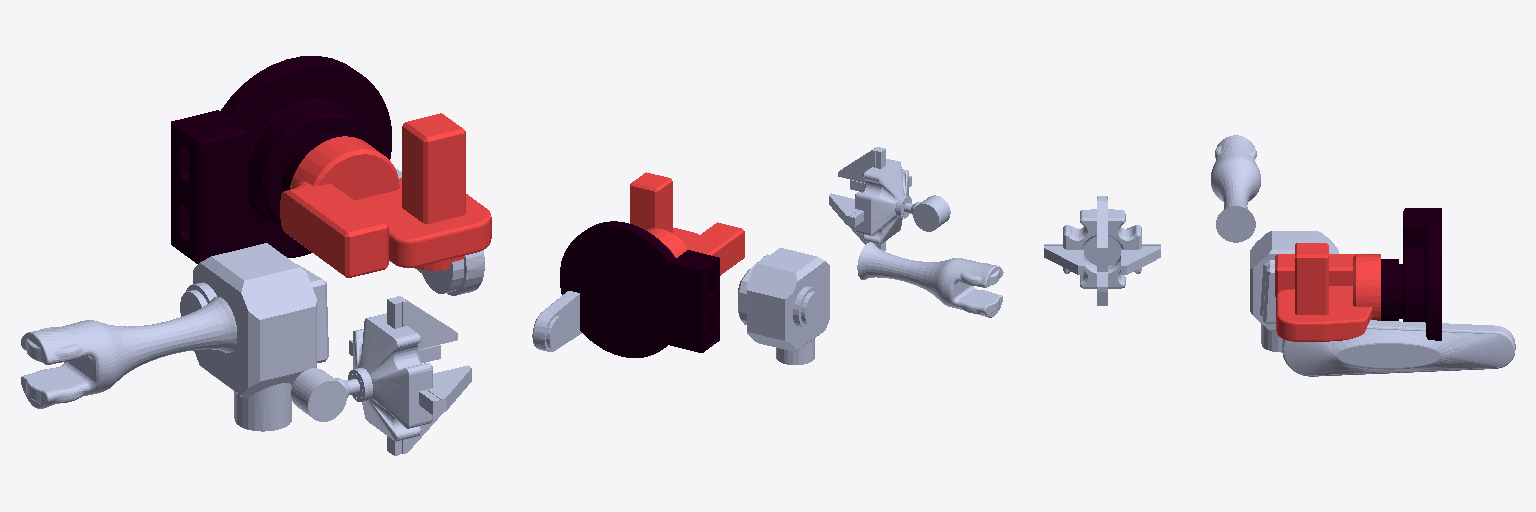
URDF robot description (my_robot_urdf):
<?xml version="1.0" encoding="utf-8" ?>
<!-- This URDF was automatically created by SolidWorks to URDF Exporter! Originally created by [author] ([email redacted]) 
     Commit Version: 1.6.0-4-g7f85cfe  Build Version: 1.6.7995.38578
     For more information, please see http://wiki.ros.org/sw_urdf_exporter -->
<robot name="my_robot_urdf">
    <link name="base_link">
        <inertial>
            <origin xyz="-0.05930869488714 0 0.0776653157730273" rpy="0 0 0" />
            <mass value="33.891578448587" />
            <inertia ixx="0.562042604088221" ixy="0" ixz="0.00403961419511077" iyy="0.970694427805805" iyz="0" izz="1.29713482615658" />
        </inertial>
        <visual>
            <origin xyz="0 0 0" rpy="0 0 0" />
            <geometry>
                <mesh filename="package://my_robot_urdf/meshes/base_link.STL" />
            </geometry>
            <material name="">
                <color rgba="0.152941176470588 0 0.117647058823529 1" />
            </material>
        </visual>
        <collision>
            <origin xyz="0 0 0" rpy="0 0 0" />
            <geometry>
                <mesh filename="package://my_robot_urdf/meshes/base_link.STL" />
            </geometry>
        </collision>
    </link>
    <link name="arm_link_1">
        <inertial>
            <origin xyz="0.0416589398280025 0 0.19712083516126" rpy="0 0 0" />
            <mass value="26.7048266497369" />
            <inertia ixx="0.495499615132855" ixy="-0.0102760504758245" ixz="-0.0600935399650257" iyy="0.766768677077223" iyz="-0.0115358881770517" izz="0.604967931690783" />
        </inertial>
        <visual>
            <origin xyz="0 0 0" rpy="0 0 0" />
            <geometry>
                <mesh filename="package://my_robot_urdf/meshes/arm_link_1.STL" />
            </geometry>
            <material name="">
                <color rgba="1 0.309803921568627 0.309803921568627 1" />
            </material>
        </visual>
        <collision>
            <origin xyz="0 0 0" rpy="0 0 0" />
            <geometry>
                <mesh filename="package://my_robot_urdf/meshes/arm_link_1.STL" />
            </geometry>
        </collision>
    </link>
    <joint name="arm_joint_1" type="revolute">
        <origin xyz="0 -0.234 0" rpy="1.5708 0 0" />
        <parent link="base_link" />
        <child link="arm_link_1" />
        <axis xyz="0 0 1" />
        <limit lower="-3.1416" upper="3.1416" effort="0" velocity="0" />
    </joint>
    <link name="arm_link_2">
        <inertial>
            <origin xyz="0.000258724363916829 0.0707589768311214 -0.290203503422467" rpy="0 0 0" />
            <mass value="14.3270690802686" />
            <inertia ixx="0.848873613210201" ixy="-0.000175299197197552" ixz="4.64678003354567E-05" iyy="0.87480377814942" iyz="0.0137202067906075" izz="0.0504590836189902" />
        </inertial>
        <visual>
            <origin xyz="0 0 0" rpy="0 0 0" />
            <geometry>
                <mesh filename="package://my_robot_urdf/meshes/arm_link_2.STL" />
            </geometry>
            <material name="">
                <color rgba="0.792156862745098 0.819607843137255 0.933333333333333 1" />
            </material>
        </visual>
        <collision>
            <origin xyz="0 0 0" rpy="0 0 0" />
            <geometry>
                <mesh filename="package://my_robot_urdf/meshes/arm_link_2.STL" />
            </geometry>
        </collision>
    </link>
    <joint name="arm_joint_2" type="revolute">
        <origin xyz="0.15 -0.1375 0.265" rpy="0 -1.5708 3.1416" />
        <parent link="arm_link_1" />
        <child link="arm_link_2" />
        <axis xyz="0 1 0" />
        <limit lower="-3.1416" upper="3.1416" effort="0" velocity="0" />
    </joint>
    <link name="arm_link_3">
        <inertial>
            <origin xyz="0.0362614171159604 -0.123132908024542 -0.0664637155357432" rpy="0 0 0" />
            <mass value="27.1450417424437" />
            <inertia ixx="0.344868303293538" ixy="-0.00338242702861573" ixz="0.0211648441841247" iyy="0.473964503565446" iyz="-0.00675660536457725" izz="0.420912669748457" />
        </inertial>
        <visual>
            <origin xyz="0 0 0" rpy="0 0 0" />
            <geometry>
                <mesh filename="package://my_robot_urdf/meshes/arm_link_3.STL" />
            </geometry>
            <material name="">
                <color rgba="0.792156862745098 0.819607843137255 0.933333333333333 1" />
            </material>
        </visual>
        <collision>
            <origin xyz="0 0 0" rpy="0 0 0" />
            <geometry>
                <mesh filename="package://my_robot_urdf/meshes/arm_link_3.STL" />
            </geometry>
        </collision>
    </link>
    <joint name="arm_joint_3" type="continuous">
        <origin xyz="0 0 -0.7" rpy="0 0 0" />
        <parent link="arm_link_2" />
        <child link="arm_link_3" />
        <axis xyz="0 1 0" />
        <limit lower="-3.1416" upper="3.1416" effort="0" velocity="0" />
    </joint>
    <link name="arm_link_4">
        <inertial>
            <origin xyz="0.338893744219759 0 0" rpy="0 0 0" />
            <mass value="7.96664349020365" />
            <inertia ixx="0.0300827685994122" ixy="-3.48765154258439E-07" ixz="-4.33220175841054E-07" iyy="0.215976713293833" iyz="0.000166072999280485" izz="0.223048843574734" />
        </inertial>
        <visual>
            <origin xyz="0 0 0" rpy="0 0 0" />
            <geometry>
                <mesh filename="package://my_robot_urdf/meshes/arm_link_4.STL" />
            </geometry>
            <material name="">
                <color rgba="0.792156862745098 0.819607843137255 0.933333333333333 1" />
            </material>
        </visual>
        <collision>
            <origin xyz="0 0 0" rpy="0 0 0" />
            <geometry>
                <mesh filename="package://my_robot_urdf/meshes/arm_link_4.STL" />
            </geometry>
        </collision>
    </link>
    <joint name="arm_joint_4" type="revolute">
        <origin xyz="0.29 -0.11 -0.115" rpy="3.1416 0 0" />
        <parent link="arm_link_3" />
        <child link="arm_link_4" />
        <axis xyz="1 0 0" />
        <limit lower="-3.1416" upper="3.1416" effort="0" velocity="0" />
    </joint>
    <link name="arm_link_5">
        <inertial>
            <origin xyz="-0.00224018993807718 0 0" rpy="0 0 0" />
            <mass value="0.961734748124672" />
            <inertia ixx="0.00154678090917305" ixy="0" ixz="0" iyy="0.00165625576362529" iyz="0" izz="0.00143991315628678" />
        </inertial>
        <visual>
            <origin xyz="0 0 0" rpy="0 0 0" />
            <geometry>
                <mesh filename="package://my_robot_urdf/meshes/arm_link_5.STL" />
            </geometry>
            <material name="">
                <color rgba="0.792156862745098 0.819607843137255 0.933333333333333 1" />
            </material>
        </visual>
        <collision>
            <origin xyz="0 0 0" rpy="0 0 0" />
            <geometry>
                <mesh filename="package://my_robot_urdf/meshes/arm_link_5.STL" />
            </geometry>
        </collision>
    </link>
    <joint name="arm_joint_5" type="revolute">
        <origin xyz="0.51 0 0" rpy="3.1416 1.5708 3.1416" />
        <parent link="arm_link_4" />
        <child link="arm_link_5" />
        <axis xyz="0 1 0" />
        <limit lower="-4.7124" upper="1.5708" effort="0" velocity="0" />
    </joint>
    <link name="arm_link_6">
        <inertial>
            <origin xyz="0 0 0.052725963344278" rpy="0 0 0" />
            <mass value="0.288779624800079" />
            <inertia ixx="0.000386925186804297" ixy="0" ixz="0" iyy="0.000386925215104185" iyz="0" izz="0.000212753902483572" />
        </inertial>
        <visual>
            <origin xyz="0 0 0" rpy="0 0 0" />
            <geometry>
                <mesh filename="package://my_robot_urdf/meshes/arm_link_6.STL" />
            </geometry>
            <material name="">
                <color rgba="0.792156862745098 0.819607843137255 0.933333333333333 1" />
            </material>
        </visual>
        <collision>
            <origin xyz="0 0 0" rpy="0 0 0" />
            <geometry>
                <mesh filename="package://my_robot_urdf/meshes/arm_link_6.STL" />
            </geometry>
        </collision>
    </link>
    <joint name="arm_joint_6" type="revolute">
        <origin xyz="0.045 0 0" rpy="0 1.5708 0" />
        <parent link="arm_link_5" />
        <child link="arm_link_6" />
        <axis xyz="0 0 1" />
        <limit lower="-3.1416" upper="3.1416" effort="0" velocity="0" />
    </joint>
    <link name="eef_link">
        <inertial>
            <origin xyz="0 0 -0.0188761945416884" rpy="0 0 0" />
            <mass value="5.46782575492837" />
            <inertia ixx="0.0365076087226209" ixy="0" ixz="0" iyy="0.0365076302641158" iyz="0" izz="0.0627860547898383" />
        </inertial>
        <visual>
            <origin xyz="0 0 0" rpy="0 0 0" />
            <geometry>
                <mesh filename="package://my_robot_urdf/meshes/eef_link.STL" />
            </geometry>
            <material name="">
                <color rgba="0.792156862745098 0.819607843137255 0.933333333333333 1" />
            </material>
        </visual>
        <collision>
            <origin xyz="0 0 0" rpy="0 0 0" />
            <geometry>
                <mesh filename="package://my_robot_urdf/meshes/eef_link.STL" />
            </geometry>
        </collision>
    </link>
    <joint name="eef_link_fixed" type="fixed">
        <origin xyz="0 0 0.145" rpy="3.1416 0 3.1416" />
        <parent link="arm_link_6" />
        <child link="eef_link" />
        <axis xyz="0 0 0" />
    </joint>
    <link name="eef_jaw_1">
        <inertial>
            <origin xyz="0.0869730343447335 -0.02 0.0799489474646907" rpy="0 0 0" />
            <mass value="0.672155087926634" />
            <inertia ixx="0.00170709281582639" ixy="0" ixz="-0.000828153130362926" iyy="0.00264620439405273" iyz="0" izz="0.00111534333500677" />
        </inertial>
        <visual>
            <origin xyz="0 0 0" rpy="0 0 0" />
            <geometry>
                <mesh filename="package://my_robot_urdf/meshes/eef_jaw_1.STL" />
            </geometry>
            <material name="">
                <color rgba="0.792156862745098 0.819607843137255 0.933333333333333 1" />
            </material>
        </visual>
        <collision>
            <origin xyz="0 0 0" rpy="0 0 0" />
            <geometry>
                <mesh filename="package://my_robot_urdf/meshes/eef_jaw_1.STL" />
            </geometry>
        </collision>
    </link>
    <joint name="eef_jaw_1_joint_fixed" type="fixed">
        <origin xyz="-0.22228 -0.02 -0.03" rpy="3.1416 0 0" />
        <parent link="eef_link" />
        <child link="eef_jaw_1" />
        <axis xyz="0 0 0" />
    </joint>
    <link name="eef_jaw_2">
        <inertial>
            <origin xyz="0.0869730343447341 0.02 -0.0799489474646903" rpy="0 0 0" />
            <mass value="0.672155087926635" />
            <inertia ixx="0.00170709281582639" ixy="0" ixz="0.000828153130362932" iyy="0.00264620439405273" iyz="0" izz="0.00111534333500678" />
        </inertial>
        <visual>
            <origin xyz="0 0 0" rpy="0 0 0" />
            <geometry>
                <mesh filename="package://my_robot_urdf/meshes/eef_jaw_2.STL" />
            </geometry>
            <material name="">
                <color rgba="0.792156862745098 0.819607843137255 0.933333333333333 1" />
            </material>
        </visual>
        <collision>
            <origin xyz="0 0 0" rpy="0 0 0" />
            <geometry>
                <mesh filename="package://my_robot_urdf/meshes/eef_jaw_2.STL" />
            </geometry>
        </collision>
    </link>
    <joint name="eef_jaw_2_joint_fixed" type="fixed">
        <origin xyz="0.22228 0.02 -0.03" rpy="0 0 3.1416" />
        <parent link="eef_link" />
        <child link="eef_jaw_2" />
        <axis xyz="0 0 0" />
    </joint>
    <link name="eef_jaw_3">
        <inertial>
            <origin xyz="0.0869730343447339 0.0199999999999998 -0.0799489474646904" rpy="0 0 0" />
            <mass value="0.672155087926635" />
            <inertia ixx="0.00170709281582639" ixy="1.22228661725192E-18" ixz="0.00082815313036293" iyy="0.00264620439405273" iyz="-2.65326222347392E-18" izz="0.00111534333500678" />
        </inertial>
        <visual>
            <origin xyz="0 0 0" rpy="0 0 0" />
            <geometry>
                <mesh filename="package://my_robot_urdf/meshes/eef_jaw_3.STL" />
            </geometry>
            <material name="">
                <color rgba="0.792156862745098 0.819607843137255 0.933333333333333 1" />
            </material>
        </visual>
        <collision>
            <origin xyz="0 0 0" rpy="0 0 0" />
            <geometry>
                <mesh filename="package://my_robot_urdf/meshes/eef_jaw_3.STL" />
            </geometry>
        </collision>
    </link>
    <joint name="eef_jaw_3_joint_fixed" type="fixed">
        <origin xyz="0.02 -0.22228 -0.03" rpy="0 0 1.5708" />
        <parent link="eef_link" />
        <child link="eef_jaw_3" />
        <axis xyz="0 0 0" />
    </joint>
    <link name="eef_jaw_4">
        <inertial>
            <origin xyz="0.0869730343447339 0.0200000000000002 -0.0799489474646904" rpy="0 0 0" />
            <mass value="0.672155087926635" />
            <inertia ixx="0.00170709281582639" ixy="-7.19987309785431E-19" ixz="0.00082815313036293" iyy="0.00264620439405273" iyz="3.18786093986215E-18" izz="0.00111534333500678" />
        </inertial>
        <visual>
            <origin xyz="0 0 0" rpy="0 0 0" />
            <geometry>
                <mesh filename="package://my_robot_urdf/meshes/eef_jaw_4.STL" />
            </geometry>
            <material name="">
                <color rgba="0.792156862745098 0.819607843137255 0.933333333333333 1" />
            </material>
        </visual>
        <collision>
            <origin xyz="0 0 0" rpy="0 0 0" />
            <geometry>
                <mesh filename="package://my_robot_urdf/meshes/eef_jaw_4.STL" />
            </geometry>
        </collision>
    </link>
    <joint name="eef_jaw_4_joint_fixed" type="fixed">
        <origin xyz="-0.0200000000000002 0.222284161474006 -0.0299999999999999" rpy="0 0 -1.5707963267949" />
        <parent link="eef_link" />
        <child link="eef_jaw_4" />
        <axis xyz="0 0 0" />
    </joint>
    <transmission name="trans_arm_joint_1">
        <type>transmission_interface/SimpleTransmission</type>
        <joint name="arm_joint_1">
            <hardwareInterface>hardware_interface/EffortJointInterface</hardwareInterface>
        </joint>
        <actuator name="arm_joint_1_motor">
            <hardwareInterface>hardware_interface/EffortJointInterface</hardwareInterface>
            <mechanicalReduction>1</mechanicalReduction>
        </actuator>
    </transmission>
    <transmission name="trans_arm_joint_2">
        <type>transmission_interface/SimpleTransmission</type>
        <joint name="arm_joint_2">
            <hardwareInterface>hardware_interface/EffortJointInterface</hardwareInterface>
        </joint>
        <actuator name="arm_joint_2_motor">
            <hardwareInterface>hardware_interface/EffortJointInterface</hardwareInterface>
            <mechanicalReduction>1</mechanicalReduction>
        </actuator>
    </transmission>
    <transmission name="trans_arm_joint_3">
        <type>transmission_interface/SimpleTransmission</type>
        <joint name="arm_joint_3">
            <hardwareInterface>hardware_interface/EffortJointInterface</hardwareInterface>
        </joint>
        <actuator name="arm_joint_3_motor">
            <hardwareInterface>hardware_interface/EffortJointInterface</hardwareInterface>
            <mechanicalReduction>1</mechanicalReduction>
        </actuator>
    </transmission>
    <transmission name="trans_arm_joint_4">
        <type>transmission_interface/SimpleTransmission</type>
        <joint name="arm_joint_4">
            <hardwareInterface>hardware_interface/EffortJointInterface</hardwareInterface>
        </joint>
        <actuator name="arm_joint_4_motor">
            <hardwareInterface>hardware_interface/EffortJointInterface</hardwareInterface>
            <mechanicalReduction>1</mechanicalReduction>
        </actuator>
    </transmission>
    <transmission name="trans_arm_joint_5">
        <type>transmission_interface/SimpleTransmission</type>
        <joint name="arm_joint_5">
            <hardwareInterface>hardware_interface/EffortJointInterface</hardwareInterface>
        </joint>
        <actuator name="arm_joint_5_motor">
            <hardwareInterface>hardware_interface/EffortJointInterface</hardwareInterface>
            <mechanicalReduction>1</mechanicalReduction>
        </actuator>
    </transmission>
    <transmission name="trans_arm_joint_6">
        <type>transmission_interface/SimpleTransmission</type>
        <joint name="arm_joint_6">
            <hardwareInterface>hardware_interface/EffortJointInterface</hardwareInterface>
        </joint>
        <actuator name="arm_joint_6_motor">
            <hardwareInterface>hardware_interface/EffortJointInterface</hardwareInterface>
            <mechanicalReduction>1</mechanicalReduction>
        </actuator>
    </transmission>
    <gazebo>
        <plugin name="gazebo_ros_control" filename="libgazebo_ros_control.so">
            <robotNamespace>/</robotNamespace>
        </plugin>
    </gazebo>
</robot>

--- Render facts (derived) ---
The picture shows the robot from 3 angles, left to right: view 1: azimuth 30°, elevation 25°; view 2: azimuth 150°, elevation 25°; view 3: azimuth 270°, elevation 25°; orthographic projection.
Model my_robot_urdf with 12 links and 11 joints (5 revolute, 1 continuous, 5 fixed), rooted at base_link, posed all joints at 0.
Visible links, largest first — view 1: base_link, arm_link_1, arm_link_3, arm_link_4, eef_link, arm_link_5, eef_jaw_4, arm_link_2, eef_jaw_2, arm_link_6, eef_jaw_3; view 2: base_link, arm_link_3, arm_link_4, arm_link_1, eef_link, arm_link_2, arm_link_5, eef_jaw_4, eef_jaw_1; view 3: arm_link_2, arm_link_1, base_link, arm_link_4, arm_link_3, eef_link, eef_jaw_1, eef_jaw_2, eef_jaw_4.
Boxes of the visible links, bbox=[...] form: base_link: bbox=[171, 56, 391, 263]; arm_link_1: bbox=[280, 113, 491, 277]; arm_link_3: bbox=[180, 243, 328, 431]; arm_link_4: bbox=[21, 297, 236, 408]; eef_link: bbox=[353, 313, 432, 441]; arm_link_5: bbox=[291, 368, 346, 421]; eef_jaw_4: bbox=[387, 296, 457, 349]; arm_link_2: bbox=[395, 168, 484, 295]; eef_jaw_2: bbox=[419, 365, 471, 414]; arm_link_6: bbox=[335, 367, 372, 401]; eef_jaw_3: bbox=[387, 412, 443, 455]; base_link: bbox=[560, 221, 719, 357]; arm_link_3: bbox=[738, 248, 829, 364]; arm_link_4: bbox=[857, 242, 1003, 317]; arm_link_1: bbox=[630, 172, 744, 275]; eef_link: bbox=[855, 159, 908, 244]; arm_link_2: bbox=[532, 291, 581, 351]; arm_link_5: bbox=[913, 195, 950, 231]; eef_jaw_4: bbox=[838, 147, 885, 182]; eef_jaw_1: bbox=[829, 193, 863, 226]; arm_link_2: bbox=[1282, 320, 1515, 376]; arm_link_1: bbox=[1275, 243, 1380, 341]; base_link: bbox=[1381, 208, 1441, 340]; arm_link_4: bbox=[1211, 135, 1260, 242]; arm_link_3: bbox=[1250, 231, 1338, 352]; eef_link: bbox=[1063, 210, 1141, 288]; eef_jaw_1: bbox=[1121, 244, 1160, 274]; eef_jaw_2: bbox=[1044, 244, 1083, 274]; eef_jaw_4: bbox=[1097, 196, 1107, 252].
Bounding box of the posed robot: 1.54 × 1.8 × 0.7073 m (x, y, z).
Meshes: 12 distinct files referenced, 12 mesh visuals loaded (12 binary STL).